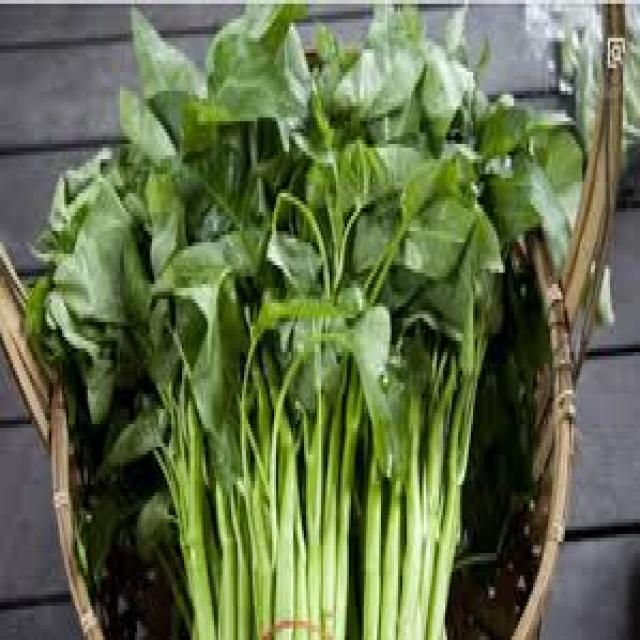organic waste: (120, 0, 280, 636), (22, 133, 216, 636), (235, 4, 364, 636), (360, 4, 430, 636), (473, 75, 614, 378), (428, 19, 473, 636)
